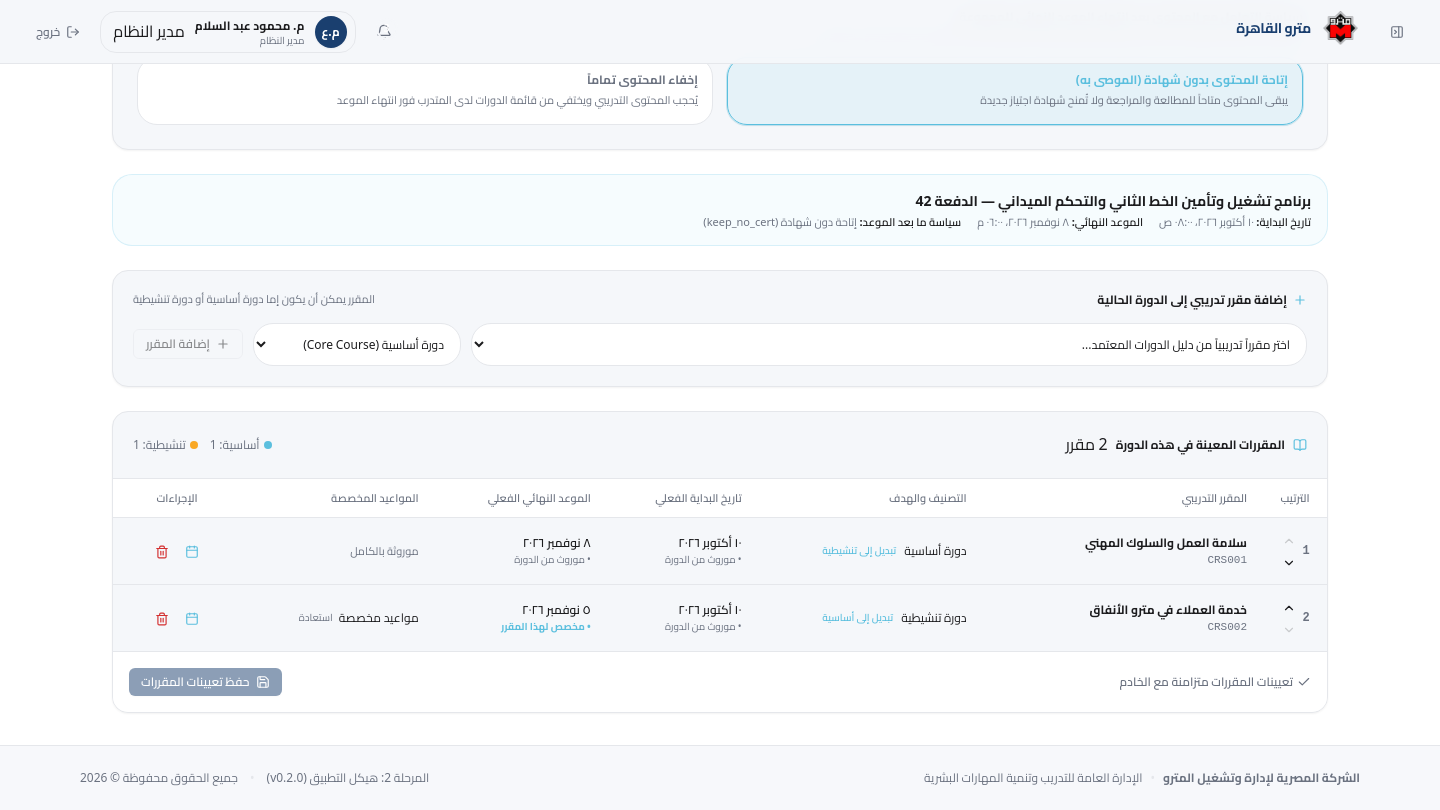
Test: Increment 10 — Phase 5: Course Assignment, Renewal Schedules & Date Overrides › 3. Date Overrides & Independent Precedence Resolution › validates invalid date range in override modal and disables apply button
(page scrolled)
Click the button with test id "customize-dates-btn-CRS001".
click(192, 551)  # box [179,537,205,565]
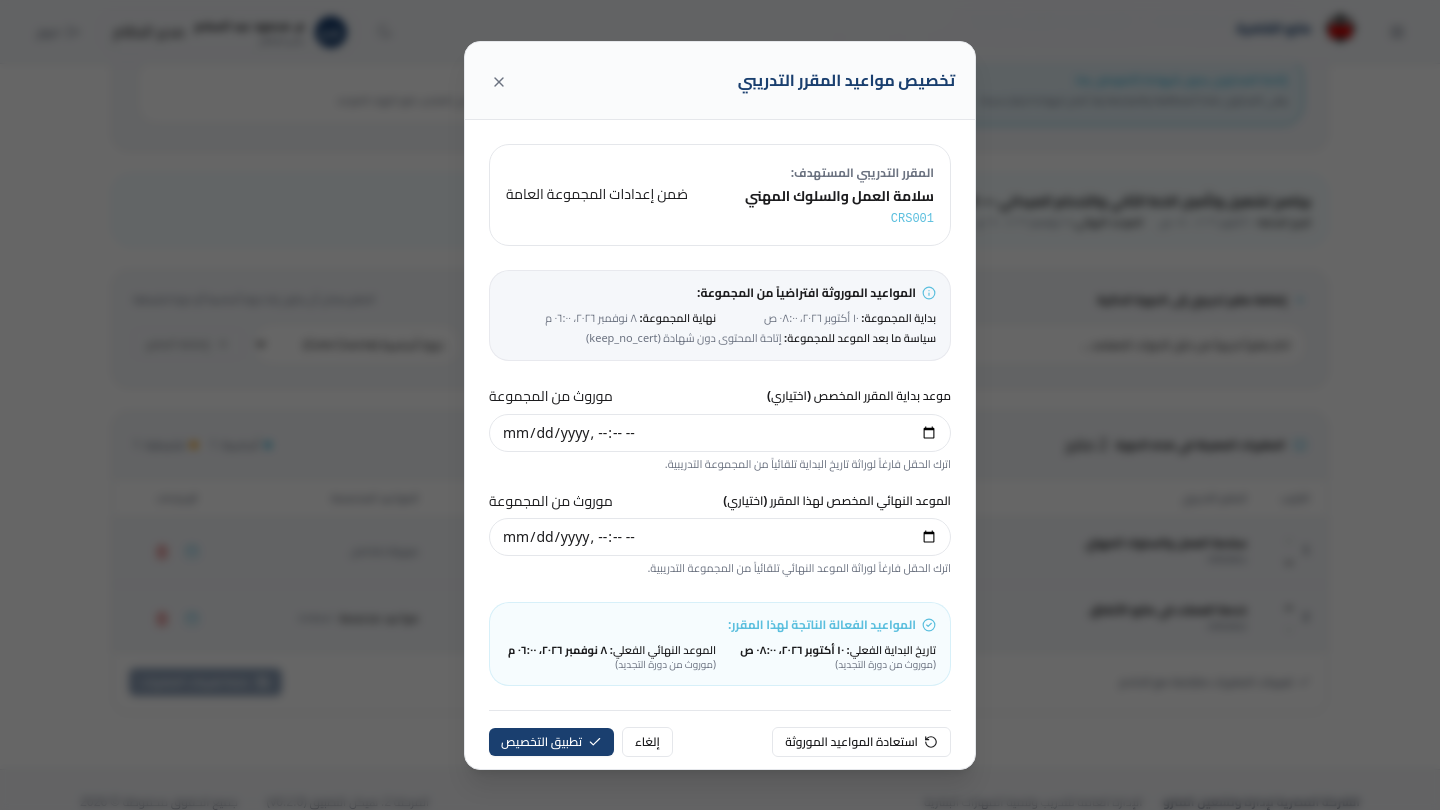
Now the dialog with test id "course-override-modal" is shown
# Enter start date that exceeds cycle deadline (cycle deadline is 2026-10-27)
Type "2026-11-20T08:00" into the field with test id "custom-start-input".
click(720, 433); type("2026-11-20T08:00")  # box [489,414,951,452]
(page scrolled)
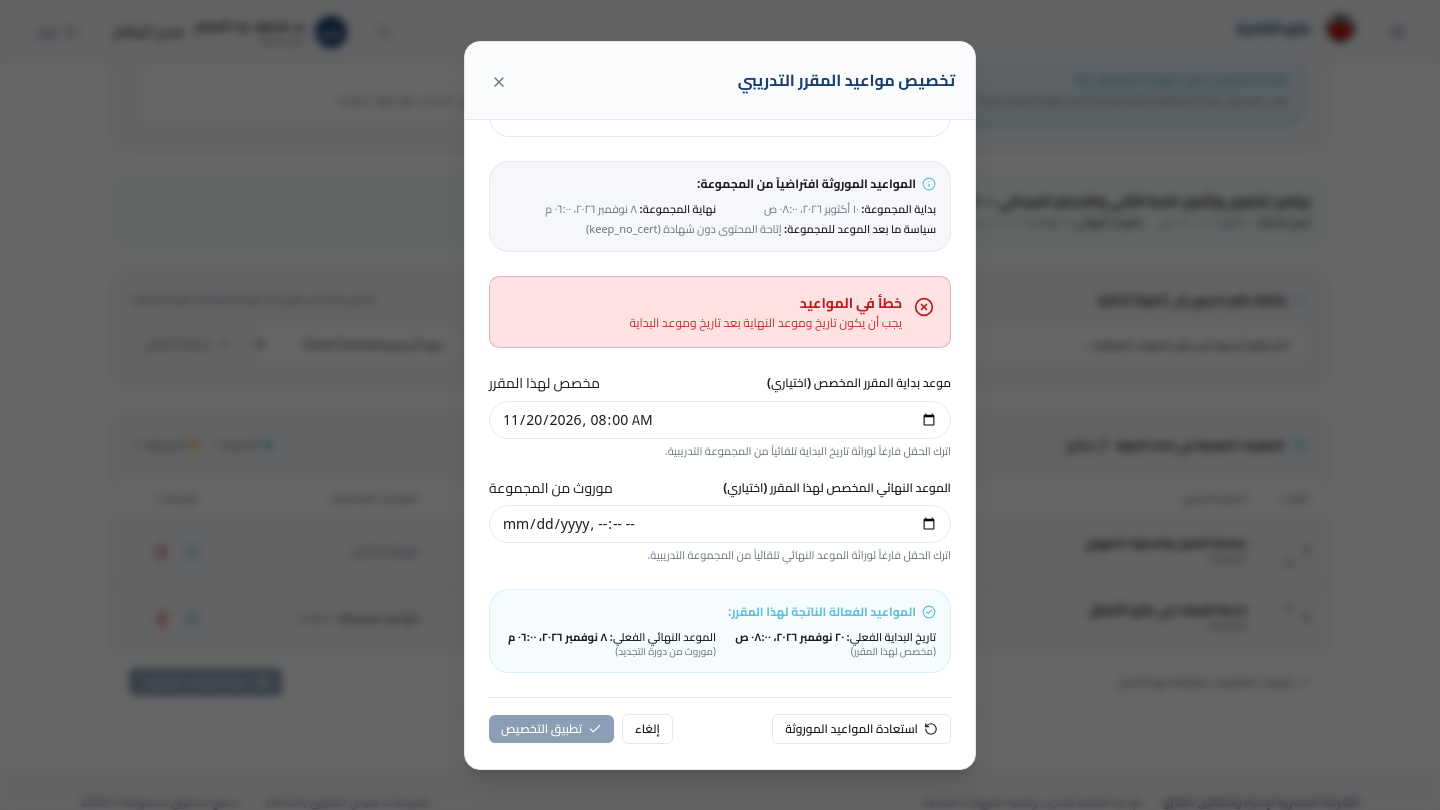
Now the element with test id "override-validation-error" is shown, box [489,276,951,348]
Now the text "يجب أن يكون تاريخ وموعد النهاية بعد تاريخ وموعد البداية" is shown, box [629,311,902,334]
Now the button with test id "apply-override-modal-btn" is disabled, box [489,715,614,743]
